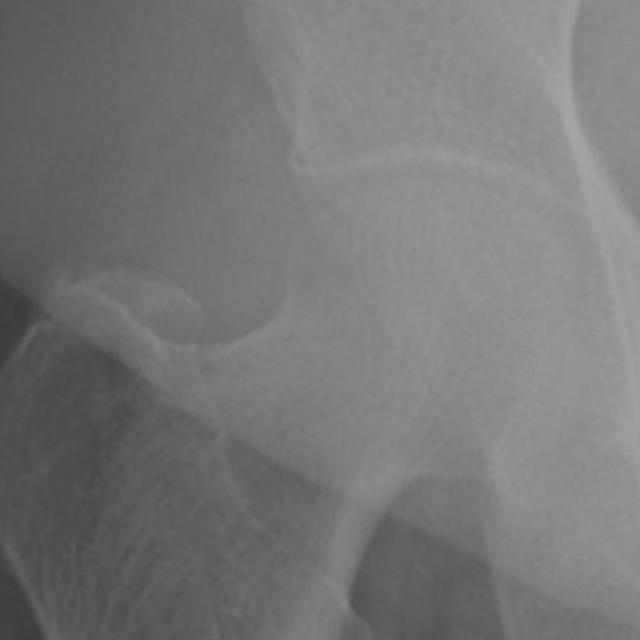Fitted_femural_head: (338, 174, 432, 338)
